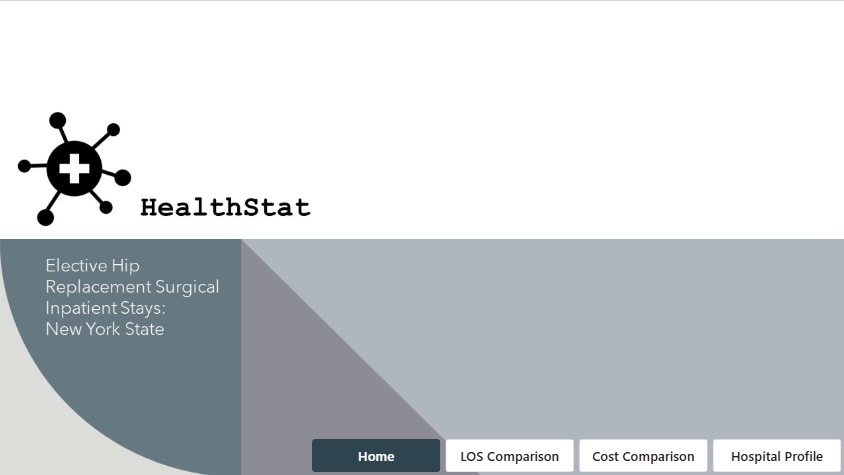

The page's visual inventory and layout, read from the dashboard file:
{"tool":"powerbi","page":{"name":"Home","canvas":[1920,1080],"ordinal":0},"visuals":[{"type":"pageNavigator","box":[792.9,838.6,800,50],"z":0}]}

Visuals, with their boxes in screenshot pixels (x1, y1, x2, y2), scaled from the page's 1920x1080 canvas onto the 844x475 screenshot:
pageNavigator: bbox=(349, 369, 700, 391)
